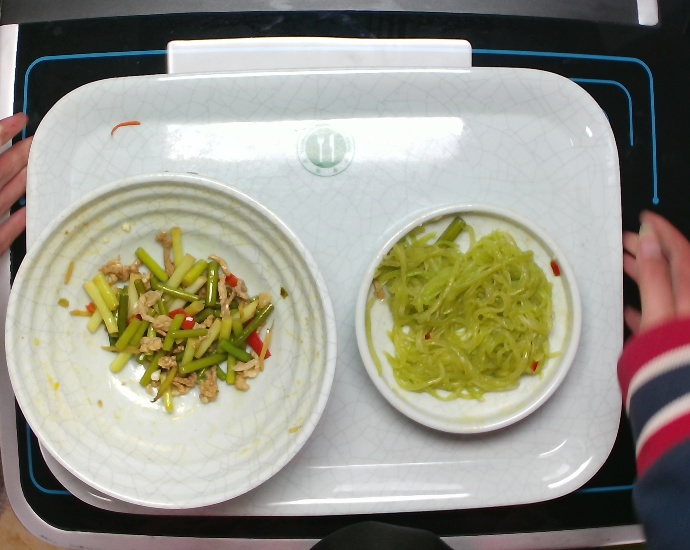JYsf-Da_Tang_Wan: (3, 169, 344, 521)
JYsf-Xiao_Yuan_Pan: (352, 201, 584, 439)
